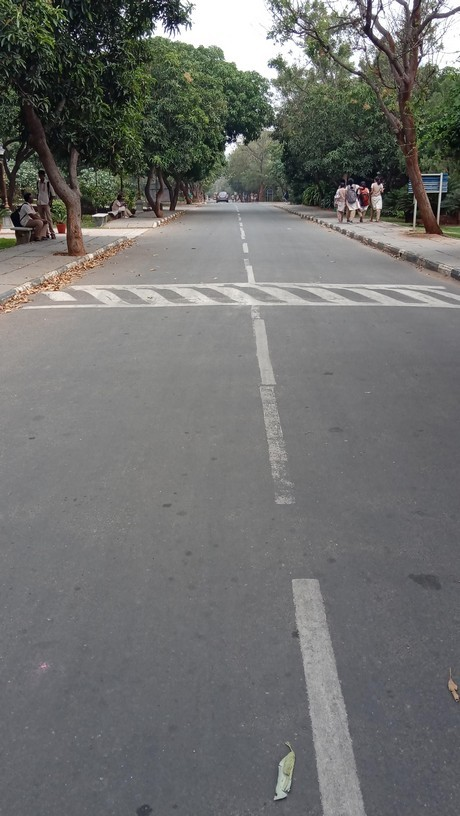bump: (23, 280, 459, 309)
